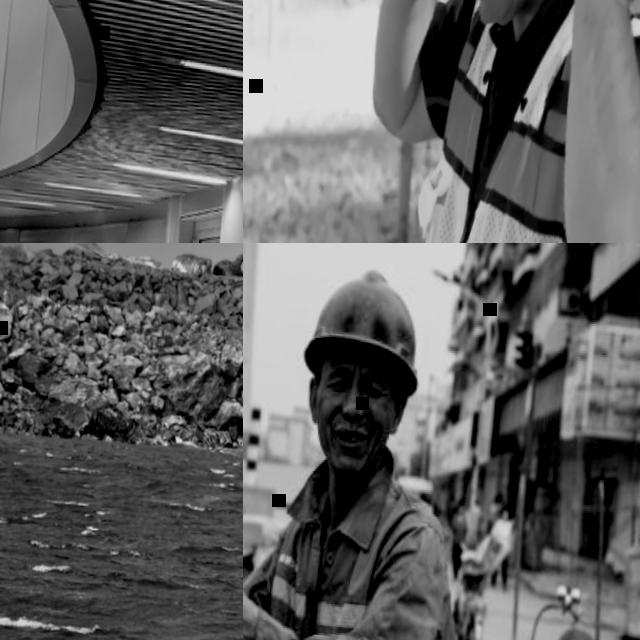Hardhat: (300, 265, 426, 392)
NO-Hardhat: (492, 494, 501, 503), (458, 500, 465, 507), (501, 504, 508, 511)
NO-Mask: (318, 408, 388, 474)
NO-Safety Vest: (446, 499, 469, 576), (465, 507, 481, 535), (451, 517, 466, 542), (497, 518, 512, 542), (486, 510, 496, 533)
Person: (243, 245, 498, 640), (348, 0, 640, 243), (488, 502, 516, 590), (463, 496, 485, 548), (484, 493, 502, 537)
Safety Vest: (403, 0, 640, 243), (246, 434, 478, 640)
